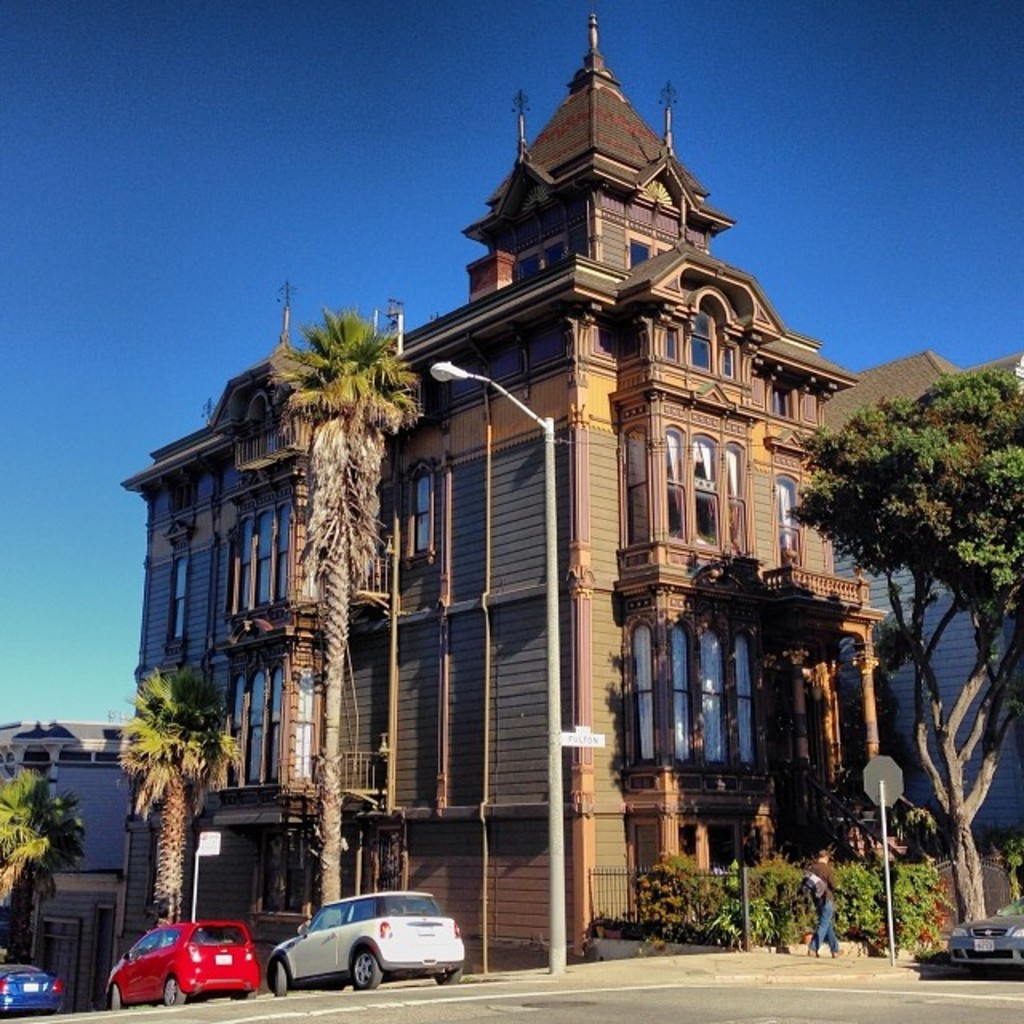Car: (267, 889, 472, 998), (108, 916, 257, 1006), (947, 910, 1022, 967), (0, 961, 67, 1012)
